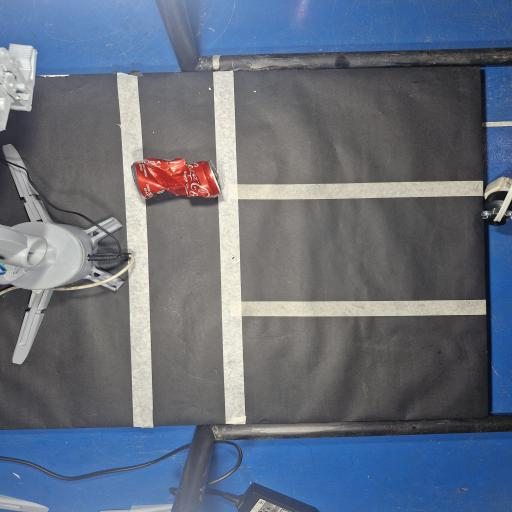lata_defectuoso: (131, 158, 220, 199)
